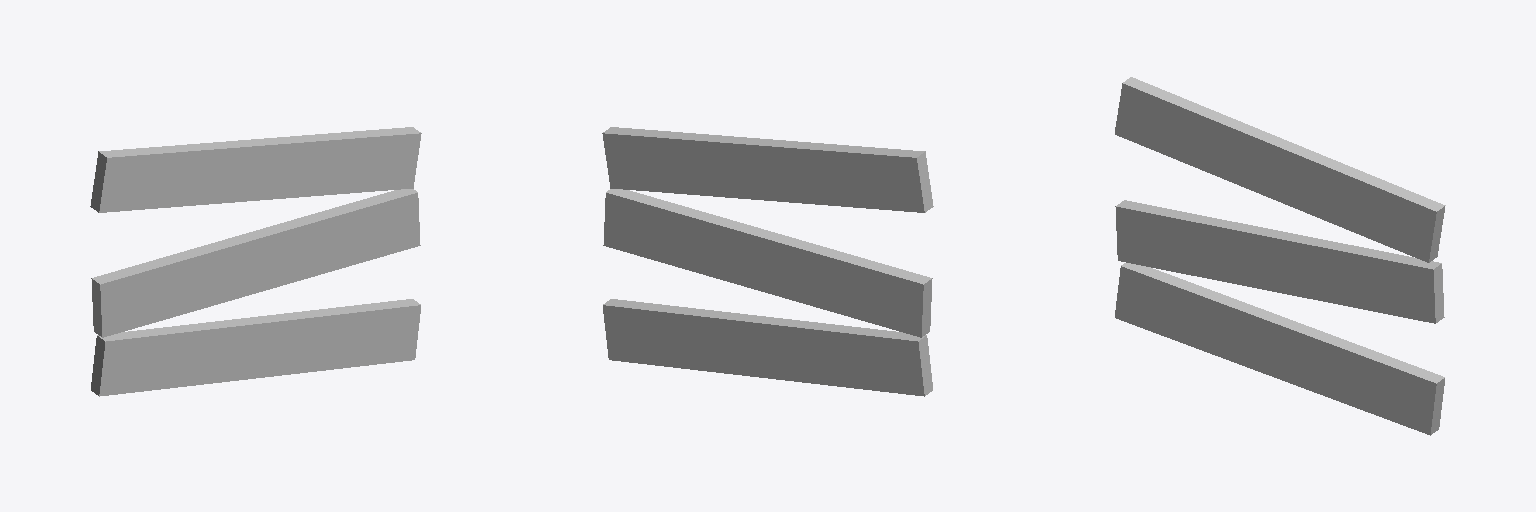
Rendered from town hall (planks)(1).obj.
The picture shows the model from 3 angles: view 1: azimuth 30°, elevation 25°; view 2: azimuth 150°, elevation 25°; view 3: azimuth 330°, elevation 25°; orthographic projection.
Visible parts, largest first — view 1: plank_2, plank_3, plank_1; view 2: plank_2, plank_3, plank_1; view 3: plank_1, plank_3, plank_2.
Part boxes in pixels (bbox=[...]): plank_2: bbox=[91, 189, 420, 337]; plank_3: bbox=[91, 299, 420, 396]; plank_1: bbox=[90, 127, 421, 212]; plank_2: bbox=[603, 189, 932, 337]; plank_3: bbox=[603, 299, 932, 396]; plank_1: bbox=[602, 127, 933, 212]; plank_1: bbox=[1115, 77, 1445, 262]; plank_3: bbox=[1115, 263, 1444, 435]; plank_2: bbox=[1115, 200, 1444, 323].
Size of the model in its own units: 0.6648 by 0.5465 by 0.0312.